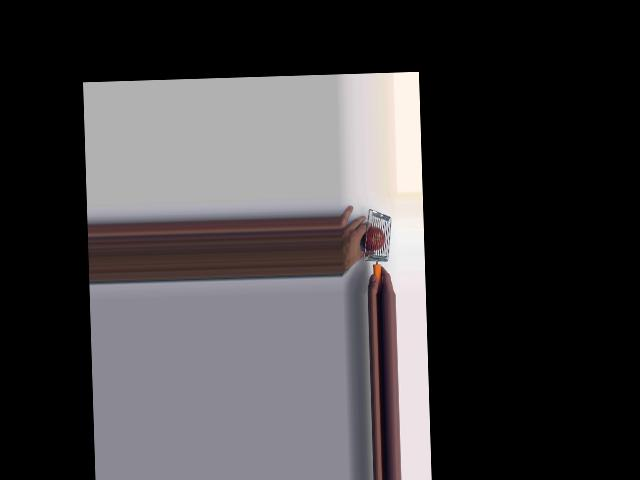tomato: (362, 227, 385, 251)
